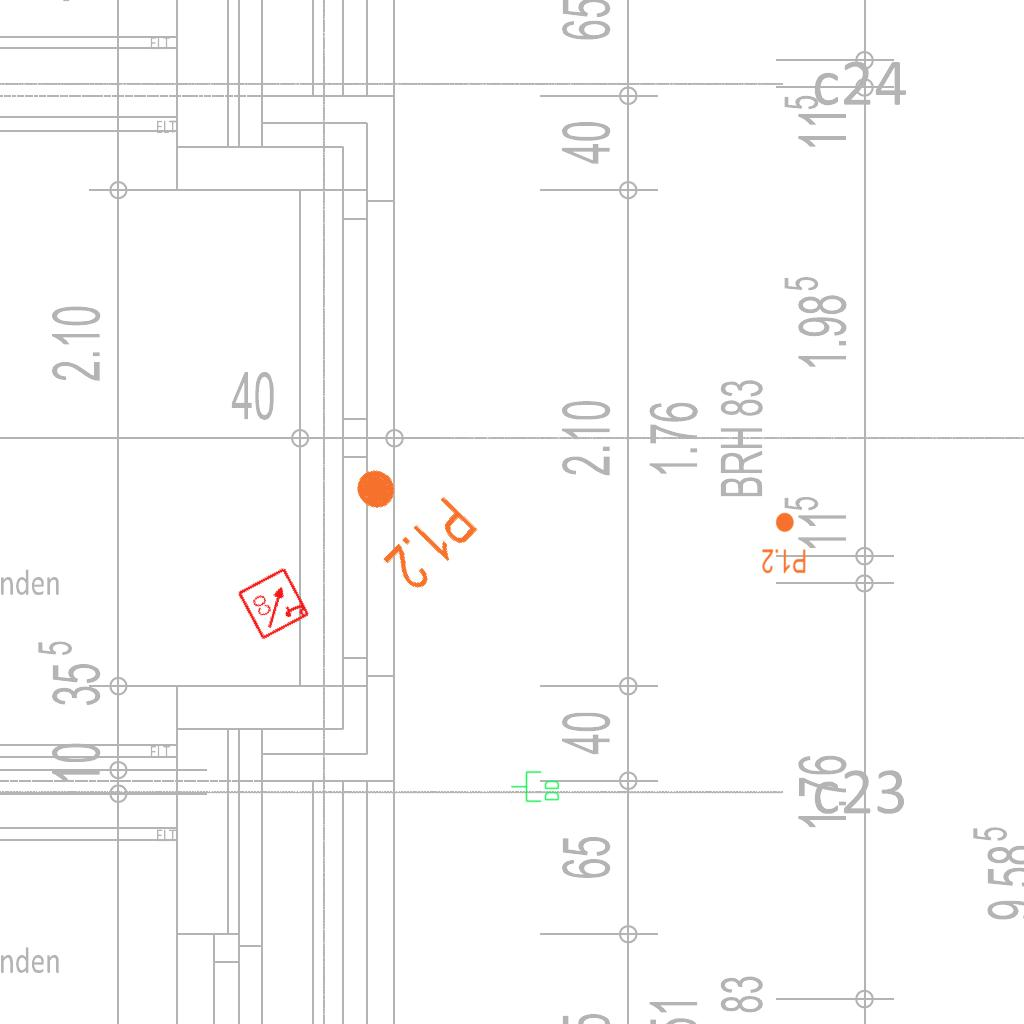Datenanschluss_zweifach: (510, 770, 561, 804)
Downlight_LED_Einbauleuchten_Flur: (326, 441, 483, 597), (761, 511, 807, 575)
ROA_Rauchmelder_optisch_mit_Signalgeber_(Sockelsirene): (236, 565, 312, 641)
